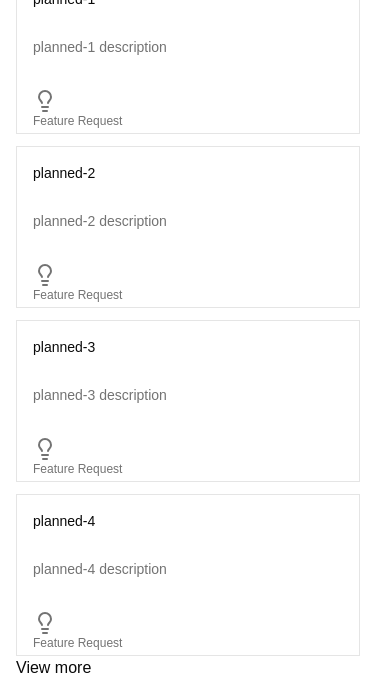
it: /roadmap route › reveals five cards at a time before requesting another server page
The width and height of the screenshot is (377, 697).
(page scrolled)
Click the button with aria-label "View more Planned Posts".
click(54, 668)  # box [16,656,91,680]
(page scrolled)
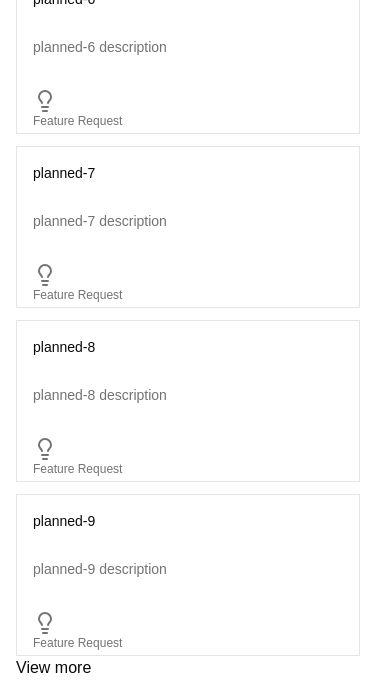
Check: the number of links is 10
Click the button with aria-label "View more Planned Posts".
click(54, 668)  # box [16,656,91,680]
(page scrolled)
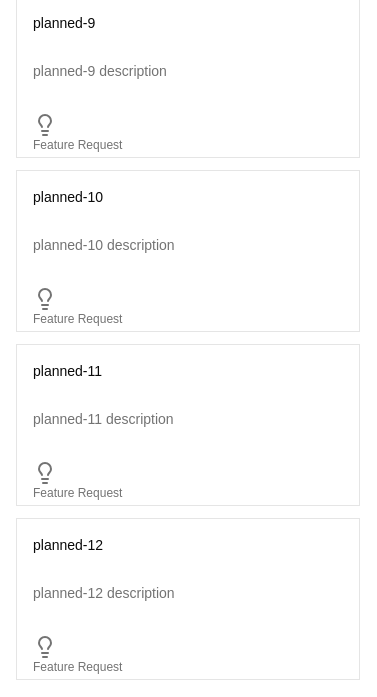
Check: the link "planned-12 planned-12 description Feature Request" is shown, box [16,518,360,680]
